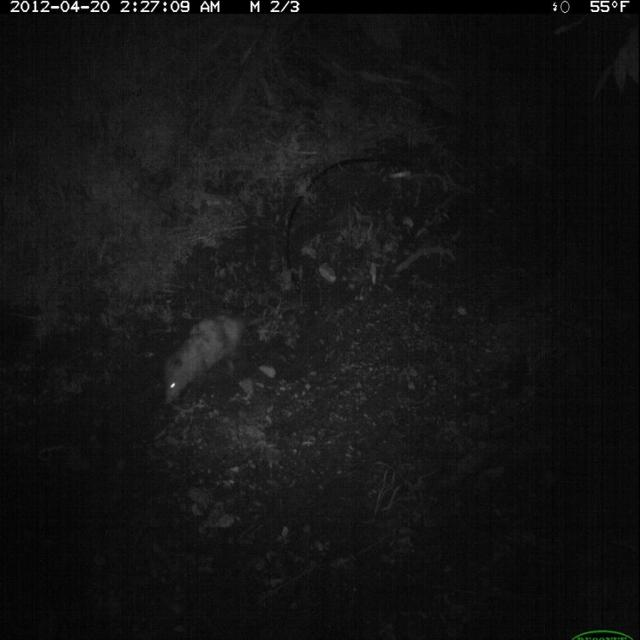opossum: (151, 294, 307, 424)
